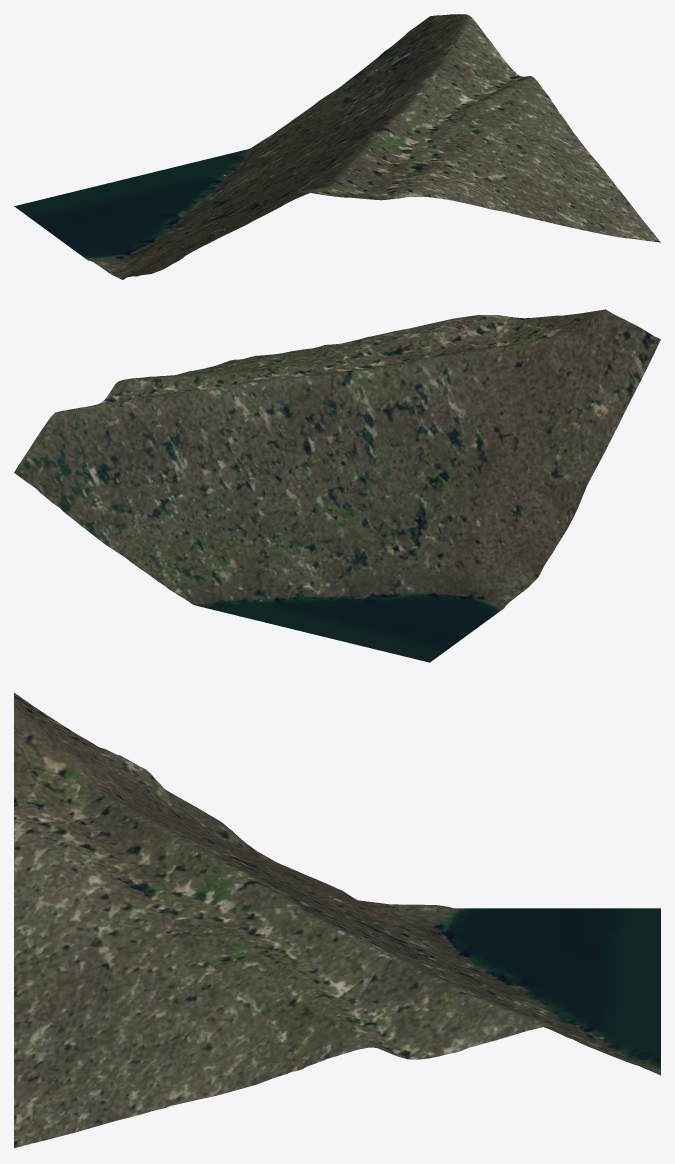
3 views of the same model, one above another, from view 1: azimuth 30°, elevation 25°; view 2: azimuth 150°, elevation 25°; view 3: azimuth 270°, elevation 25° (orthographic). The views are drawn at different scales.
Bounding box in the file's own units: 500 × 197 × 481.
1 material, 1 textured.
